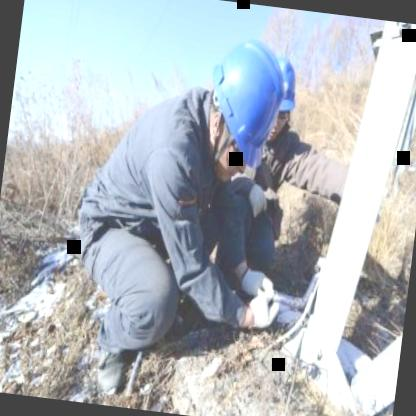helmet: (187, 27, 290, 186), (261, 50, 304, 150)
